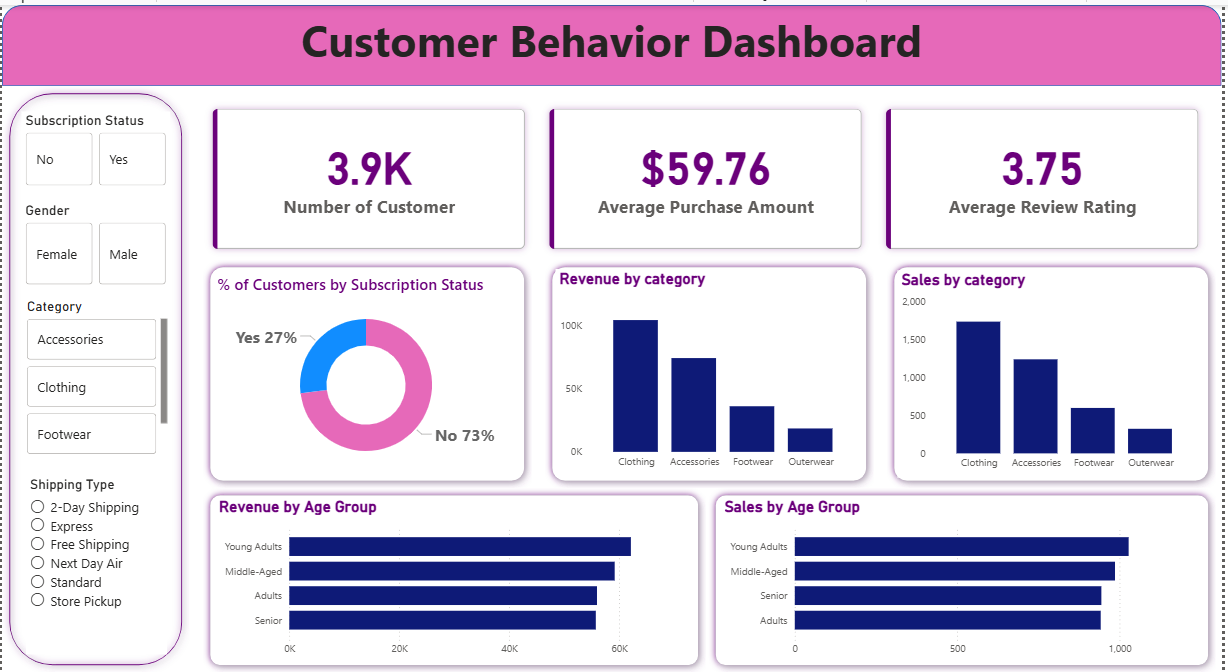

Layout of this report page (visuals, bound fields, positions):
{"tool":"powerbi","page":{"name":"Page 1","canvas":[1500,820],"ordinal":0},"visuals":[{"type":"cardVisual","fields":{"Data":["public customer.Number of Customer","public customer.Average Purchase Amount","public customer.Average Review Rating"]},"box":[230.5,99.6,1268.8,228.7],"z":0},{"type":"shape","box":[0,0,1499.3,99.7],"z":1000},{"type":"textbox","box":[0,2.2,1499.3,81.9],"z":2000},{"type":"shape","box":[247.1,313.5,403.9,280.3],"z":3000},{"type":"donutChart","title":"% of Customers by Subscription Status","fields":{"Category":["public customer.subscription_status"],"Y":["CountNonNull(public customer.customer_id)"]},"box":[260,330.1,374.4,249],"z":4000},{"type":"shape","box":[667.6,313.5,403.9,280.3],"z":5000},{"type":"shape","box":[1088,313.5,403.9,280.3],"z":6000},{"type":"clusteredColumnChart","title":"Revenue by category","fields":{"Category":["public customer.category"],"Y":["Sum(public customer.purchase_amount)"]},"box":[680.5,324.6,376.2,254.5],"z":7000},{"type":"clusteredColumnChart","title":"Sales by category","fields":{"Category":["public customer.category"],"Y":["CountNonNull(public customer.customer_id)"]},"box":[1100.9,326.4,372.5,254.5],"z":8000},{"type":"shape","box":[0,99.6,230.5,721.1],"z":9000},{"type":"advancedSlicerVisual","fields":{"Values":["public customer.subscription_status"]},"box":[24,130.9,182.6,95.9],"z":10000},{"type":"advancedSlicerVisual","fields":{"Values":["public customer.gender"]},"box":[24,241.6,182.6,107],"z":11000},{"type":"advancedSlicerVisual","fields":{"Values":["public customer.category"]},"box":[25.8,359.6,182.6,199.2],"z":12000},{"type":"listSlicer","fields":{"Values":["public customer.shipping_type"]},"box":[29.5,579.1,173.3,219.5],"z":13000},{"type":"shape","box":[247.1,593.8,617.8,226.8],"z":14000},{"type":"shape","box":[868.6,593.8,623.3,226.8],"z":15000},{"type":"clusteredBarChart","title":"Revenue by Age Group","fields":{"Category":["public customer.age_group"],"Y":["Sum(public customer.purchase_amount)"]},"box":[261.9,604.9,579.1,204.7],"z":16000},{"type":"clusteredBarChart","title":"Sales by Age Group","fields":{"Category":["public customer.age_group"],"Y":["CountNonNull(public customer.customer_id)"]},"box":[883.3,604.9,590.1,204.7],"z":17000}]}

Visuals, with their boxes in screenshot pixels (x1, y1, x2, y2), scaled from the page's 1500x820 canvas onto the 1228x672 screenshot:
cardVisual - public customer.Number of Customer x public customer.Average Purchase Amount: 189:82:1227:269
shape: 0:0:1227:82
textbox: 0:2:1227:69
shape: 202:257:533:487
"% of Customers by Subscription Status" donutChart: 213:271:519:475
shape: 547:257:877:487
shape: 891:257:1221:487
"Revenue by category" clusteredColumnChart: 557:266:865:475
"Sales by category" clusteredColumnChart: 901:267:1206:476
shape: 0:82:189:671
advancedSlicerVisual - public customer.subscription_status: 20:107:169:186
advancedSlicerVisual - public customer.gender: 20:198:169:286
advancedSlicerVisual - public customer.category: 21:295:171:458
listSlicer - public customer.shipping_type: 24:475:166:654
shape: 202:487:708:671
shape: 711:487:1221:671
"Revenue by Age Group" clusteredBarChart: 214:496:688:663
"Sales by Age Group" clusteredBarChart: 723:496:1206:663
